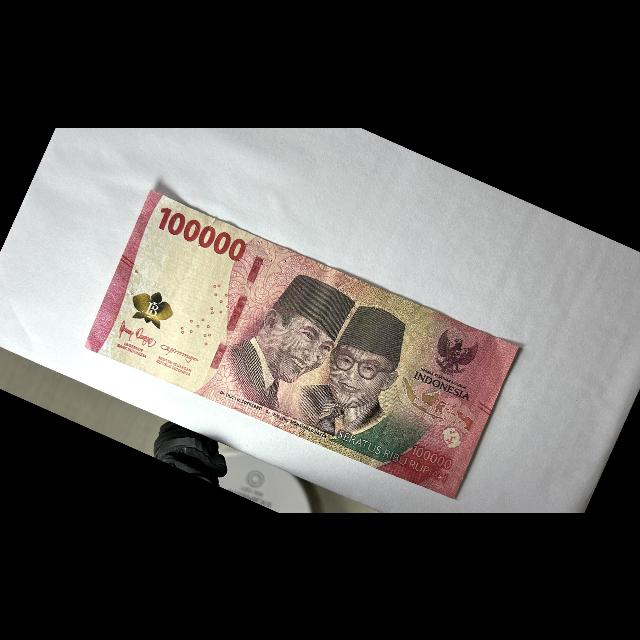Palsu-100k: (80, 185, 526, 506)
Tinta-Palsu-100k: (120, 280, 183, 334)
